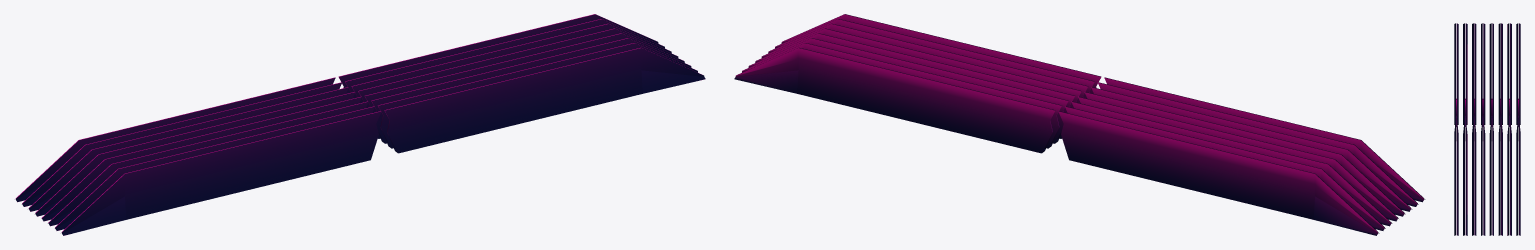
The model's file is outher-tonnel_002.fbx.
The picture shows the model from 3 angles, left to right: view 1: azimuth 30°, elevation 25°; view 2: azimuth 150°, elevation 25°; view 3: azimuth 270°, elevation 25°; orthographic projection. The views are drawn at different scales.
Parts seen in each view (by area): view 1: outher-tonnel_002; view 2: outher-tonnel_002; view 3: outher-tonnel_002.
Part boxes in pixels (bbox=[...]): outher-tonnel_002: bbox=[15, 14, 705, 235]; outher-tonnel_002: bbox=[734, 14, 1425, 235]; outher-tonnel_002: bbox=[1454, 23, 1520, 235].
Bounding box in the file's own units: 564 × 38.24 × 74.81.
